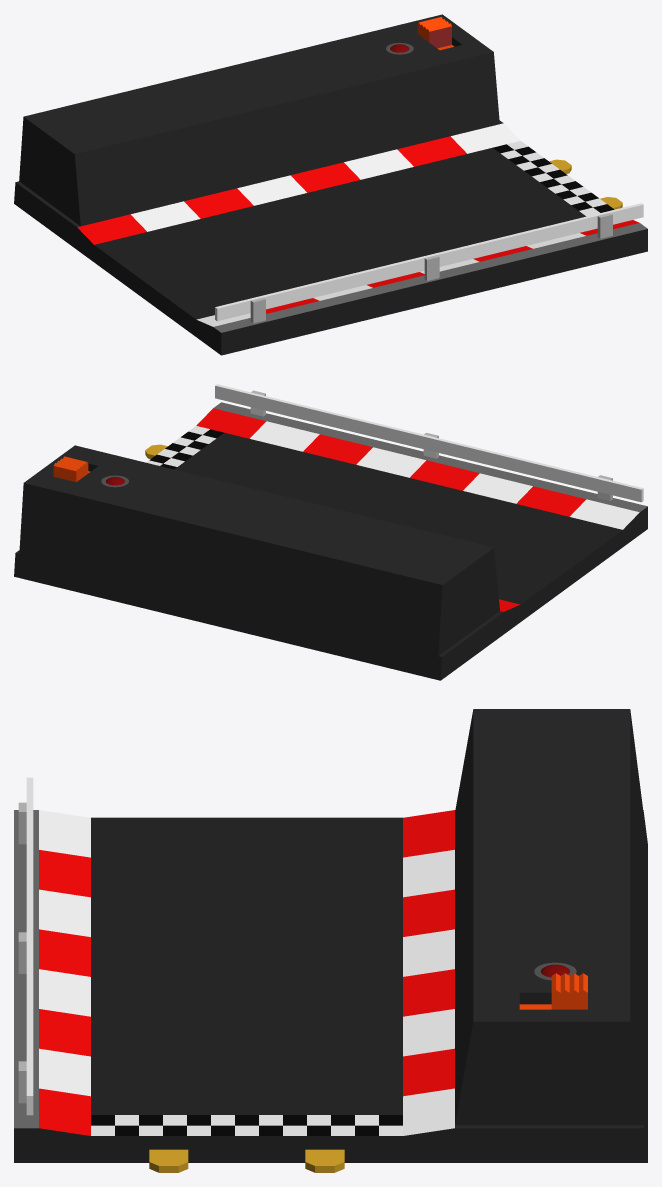
3 views of the same model, one above another, from view 1: azimuth 30°, elevation 25°; view 2: azimuth 150°, elevation 25°; view 3: azimuth 270°, elevation 25° (orthographic). The views are drawn at different scales.
Parts seen in each view (by area): view 1: Group1; view 2: Group1; view 3: Group1.
Boxes of the visible parts, left/top/right/bottom form: Group1: left=14, top=14, right=647, bottom=355; Group1: left=14, top=384, right=647, bottom=680; Group1: left=14, top=709, right=647, bottom=1172.
Bounding box in the file's own units: 21.96 × 4.83 × 17.57.
